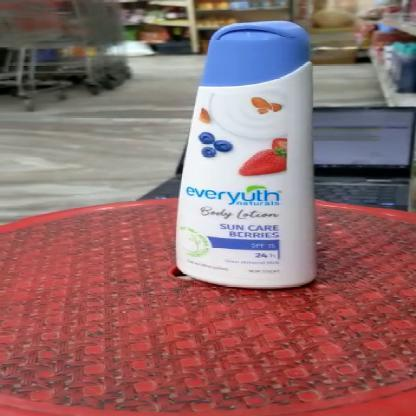Everyuth Naturals Body Lotion Sun Care Berries SPF 15 200ml: (172, 21, 314, 286)
